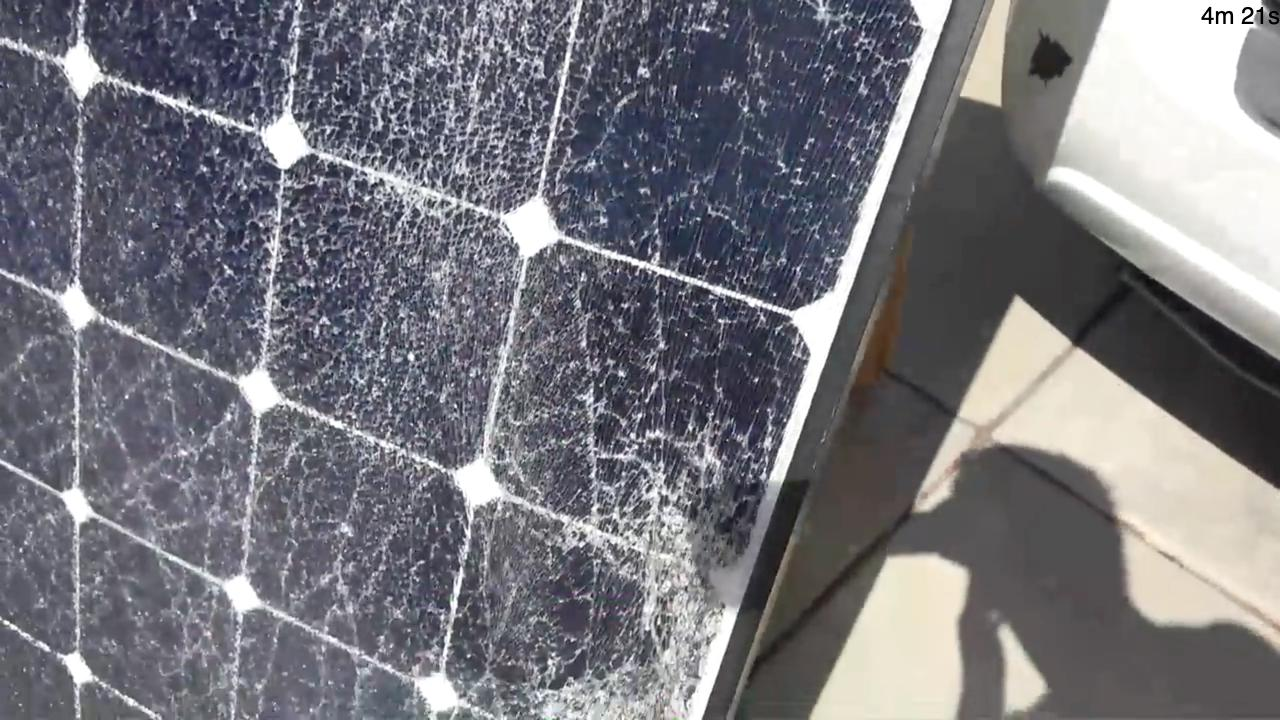Crack: (261, 417, 799, 720), (261, 3, 587, 434), (0, 3, 288, 412), (590, 0, 801, 423), (0, 376, 256, 716), (809, 0, 898, 116)
